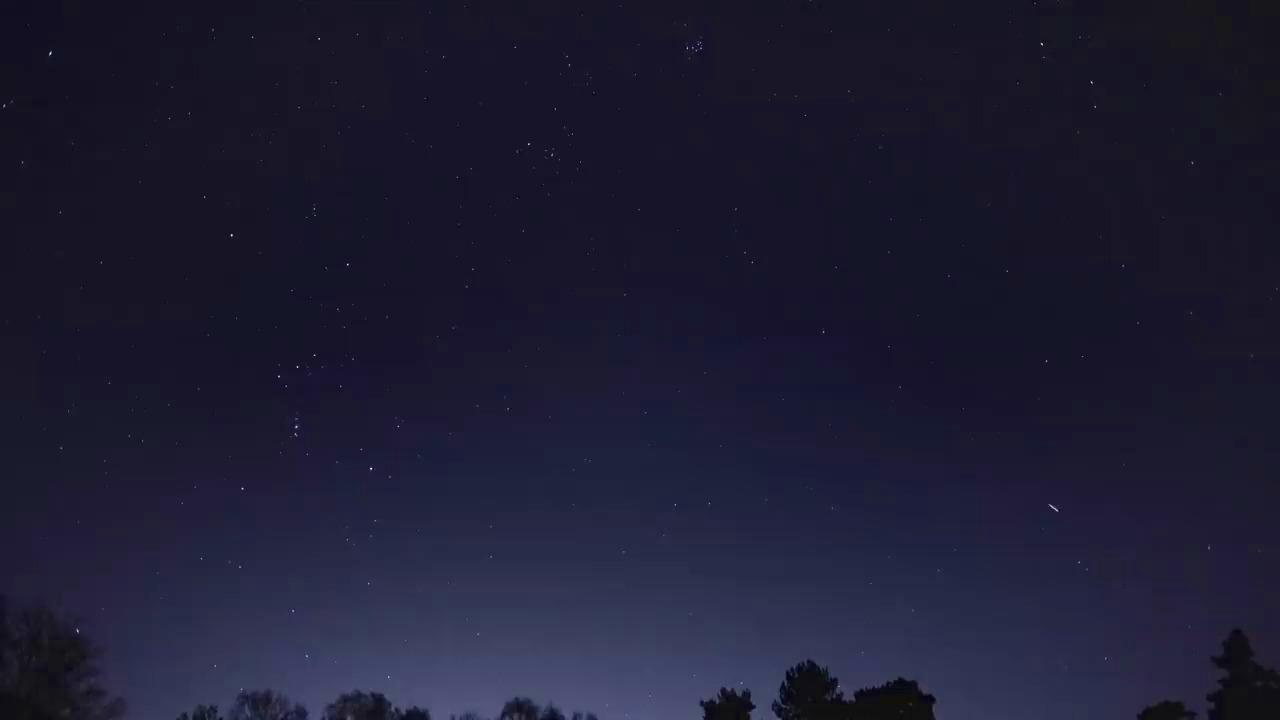meteorite: (1034, 497, 1074, 517)
